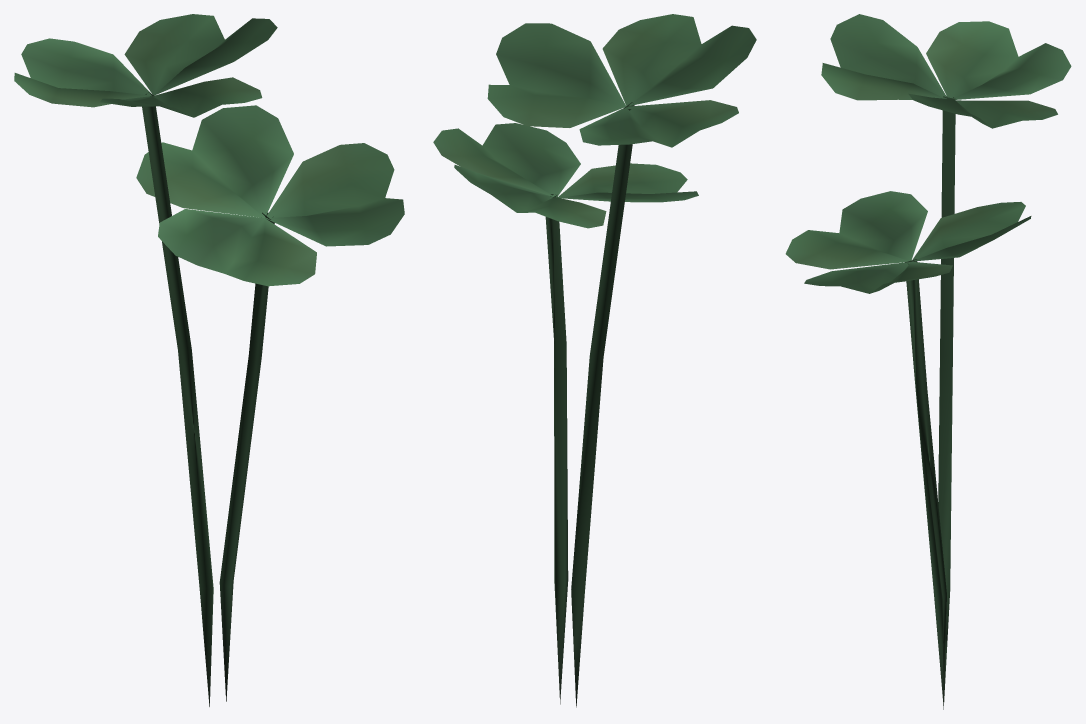
The model's file is plants-leafy-plants-clover_v8.glb.
3 renders of one model, left to right at view 1: azimuth 30°, elevation 25°; view 2: azimuth 150°, elevation 25°; view 3: azimuth 270°, elevation 25°, orthographic. The views are drawn at different scales.
Visible parts, largest first — view 1: Clover_v8; view 2: Clover_v8; view 3: Clover_v8.
Boxes of the visible parts, box(x1,y1,x2,y2) form: Clover_v8: box(14, 14, 404, 706); Clover_v8: box(433, 14, 756, 707); Clover_v8: box(785, 14, 1071, 709).
Size of the model in its own units: 0.0763 by 0.15 by 0.0619.
